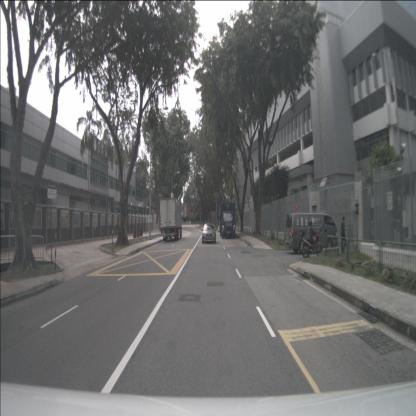human-pedestrian-adult: (340, 216, 346, 254)
vehicle-car: (285, 212, 338, 252), (202, 223, 216, 245)
vehicle-motorcycle: (298, 219, 322, 258)
vehicle-truck: (159, 197, 182, 241), (218, 202, 236, 240)
